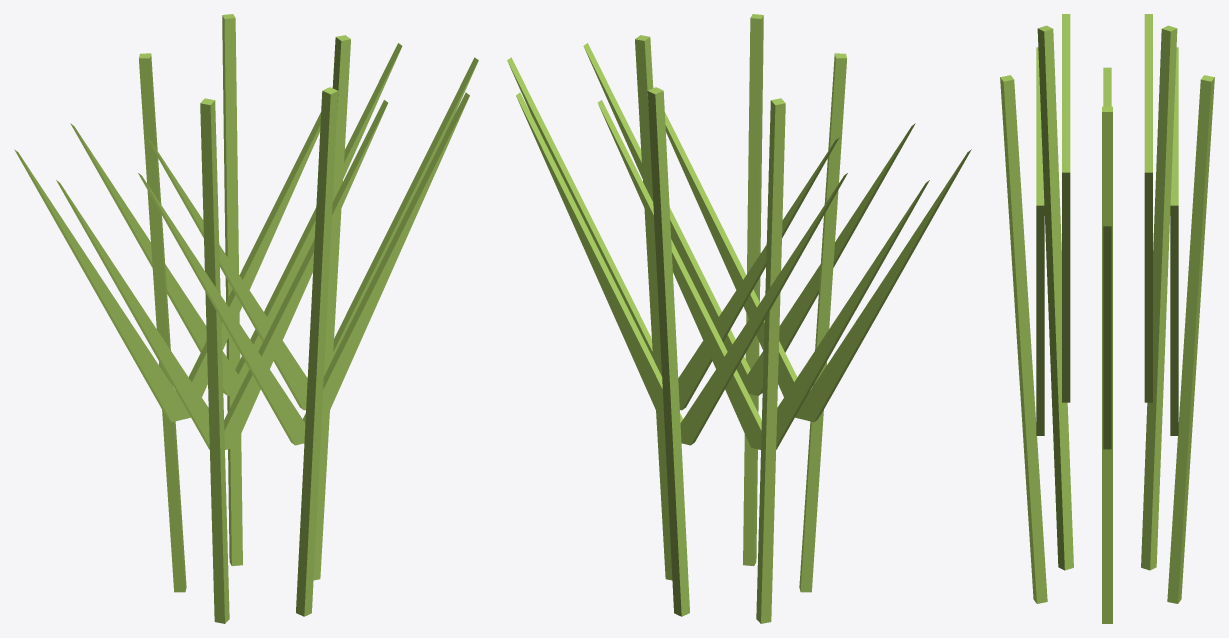
Rendered from TR3_RiceCluster_Young.glb.
The picture shows the model from 3 angles, left to right: view 1: azimuth 30°, elevation 25°; view 2: azimuth 150°, elevation 25°; view 3: azimuth 270°, elevation 25°; orthographic projection.
Parts seen in each view (by area): view 1: TR3_RiceCluster_Young; view 2: TR3_RiceCluster_Young; view 3: TR3_RiceCluster_Young.
Boxes of the visible parts, <box> form: TR3_RiceCluster_Young: <box>14,14,478,623</box>; TR3_RiceCluster_Young: <box>507,14,971,623</box>; TR3_RiceCluster_Young: <box>1000,14,1214,623</box>.
Bounding box in the file's own units: 0.5357 × 0.6207 × 0.2291.
